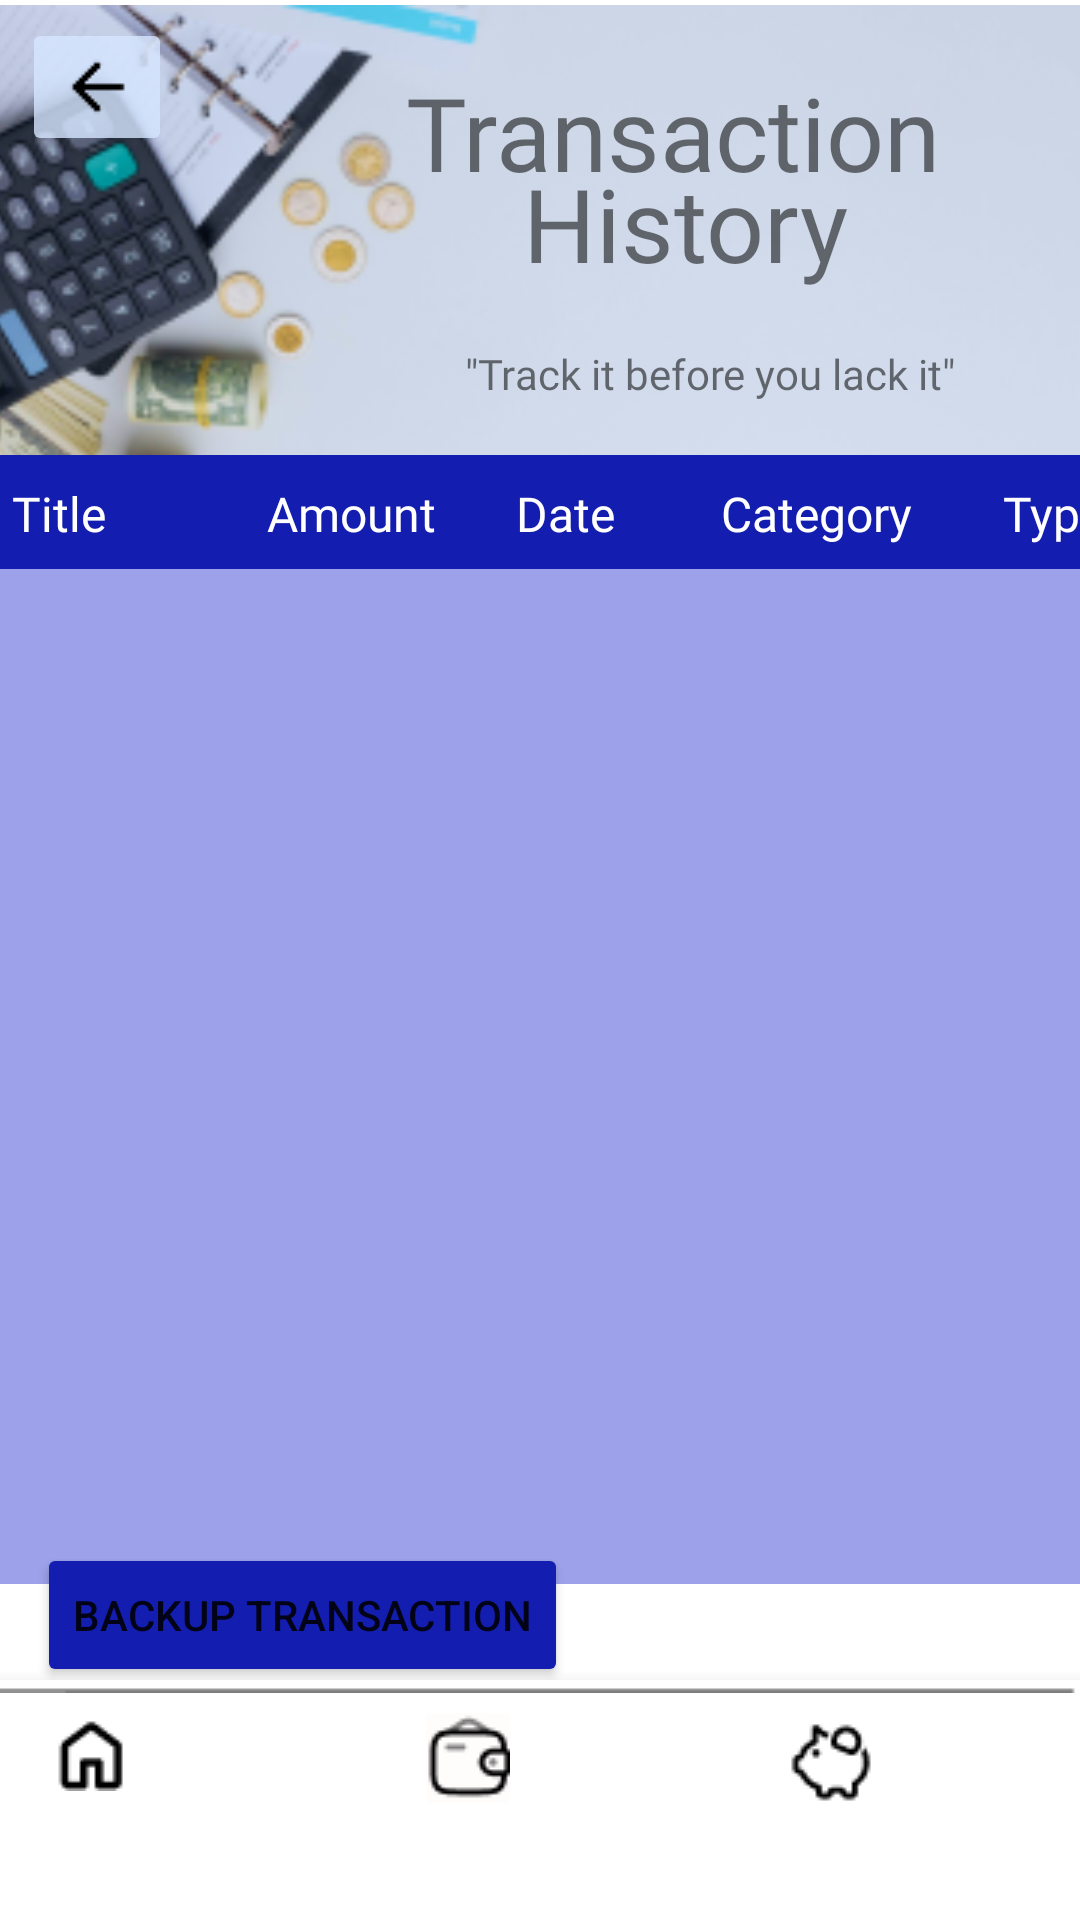

Icons on this 1080px x 1920px Android screen, each with the point to tap as (x=x, y=y):
backbtn: (x=97, y=87)
homent: (x=90, y=1756)
savingsel: (x=831, y=1762)
walletnt: (x=469, y=1757)
